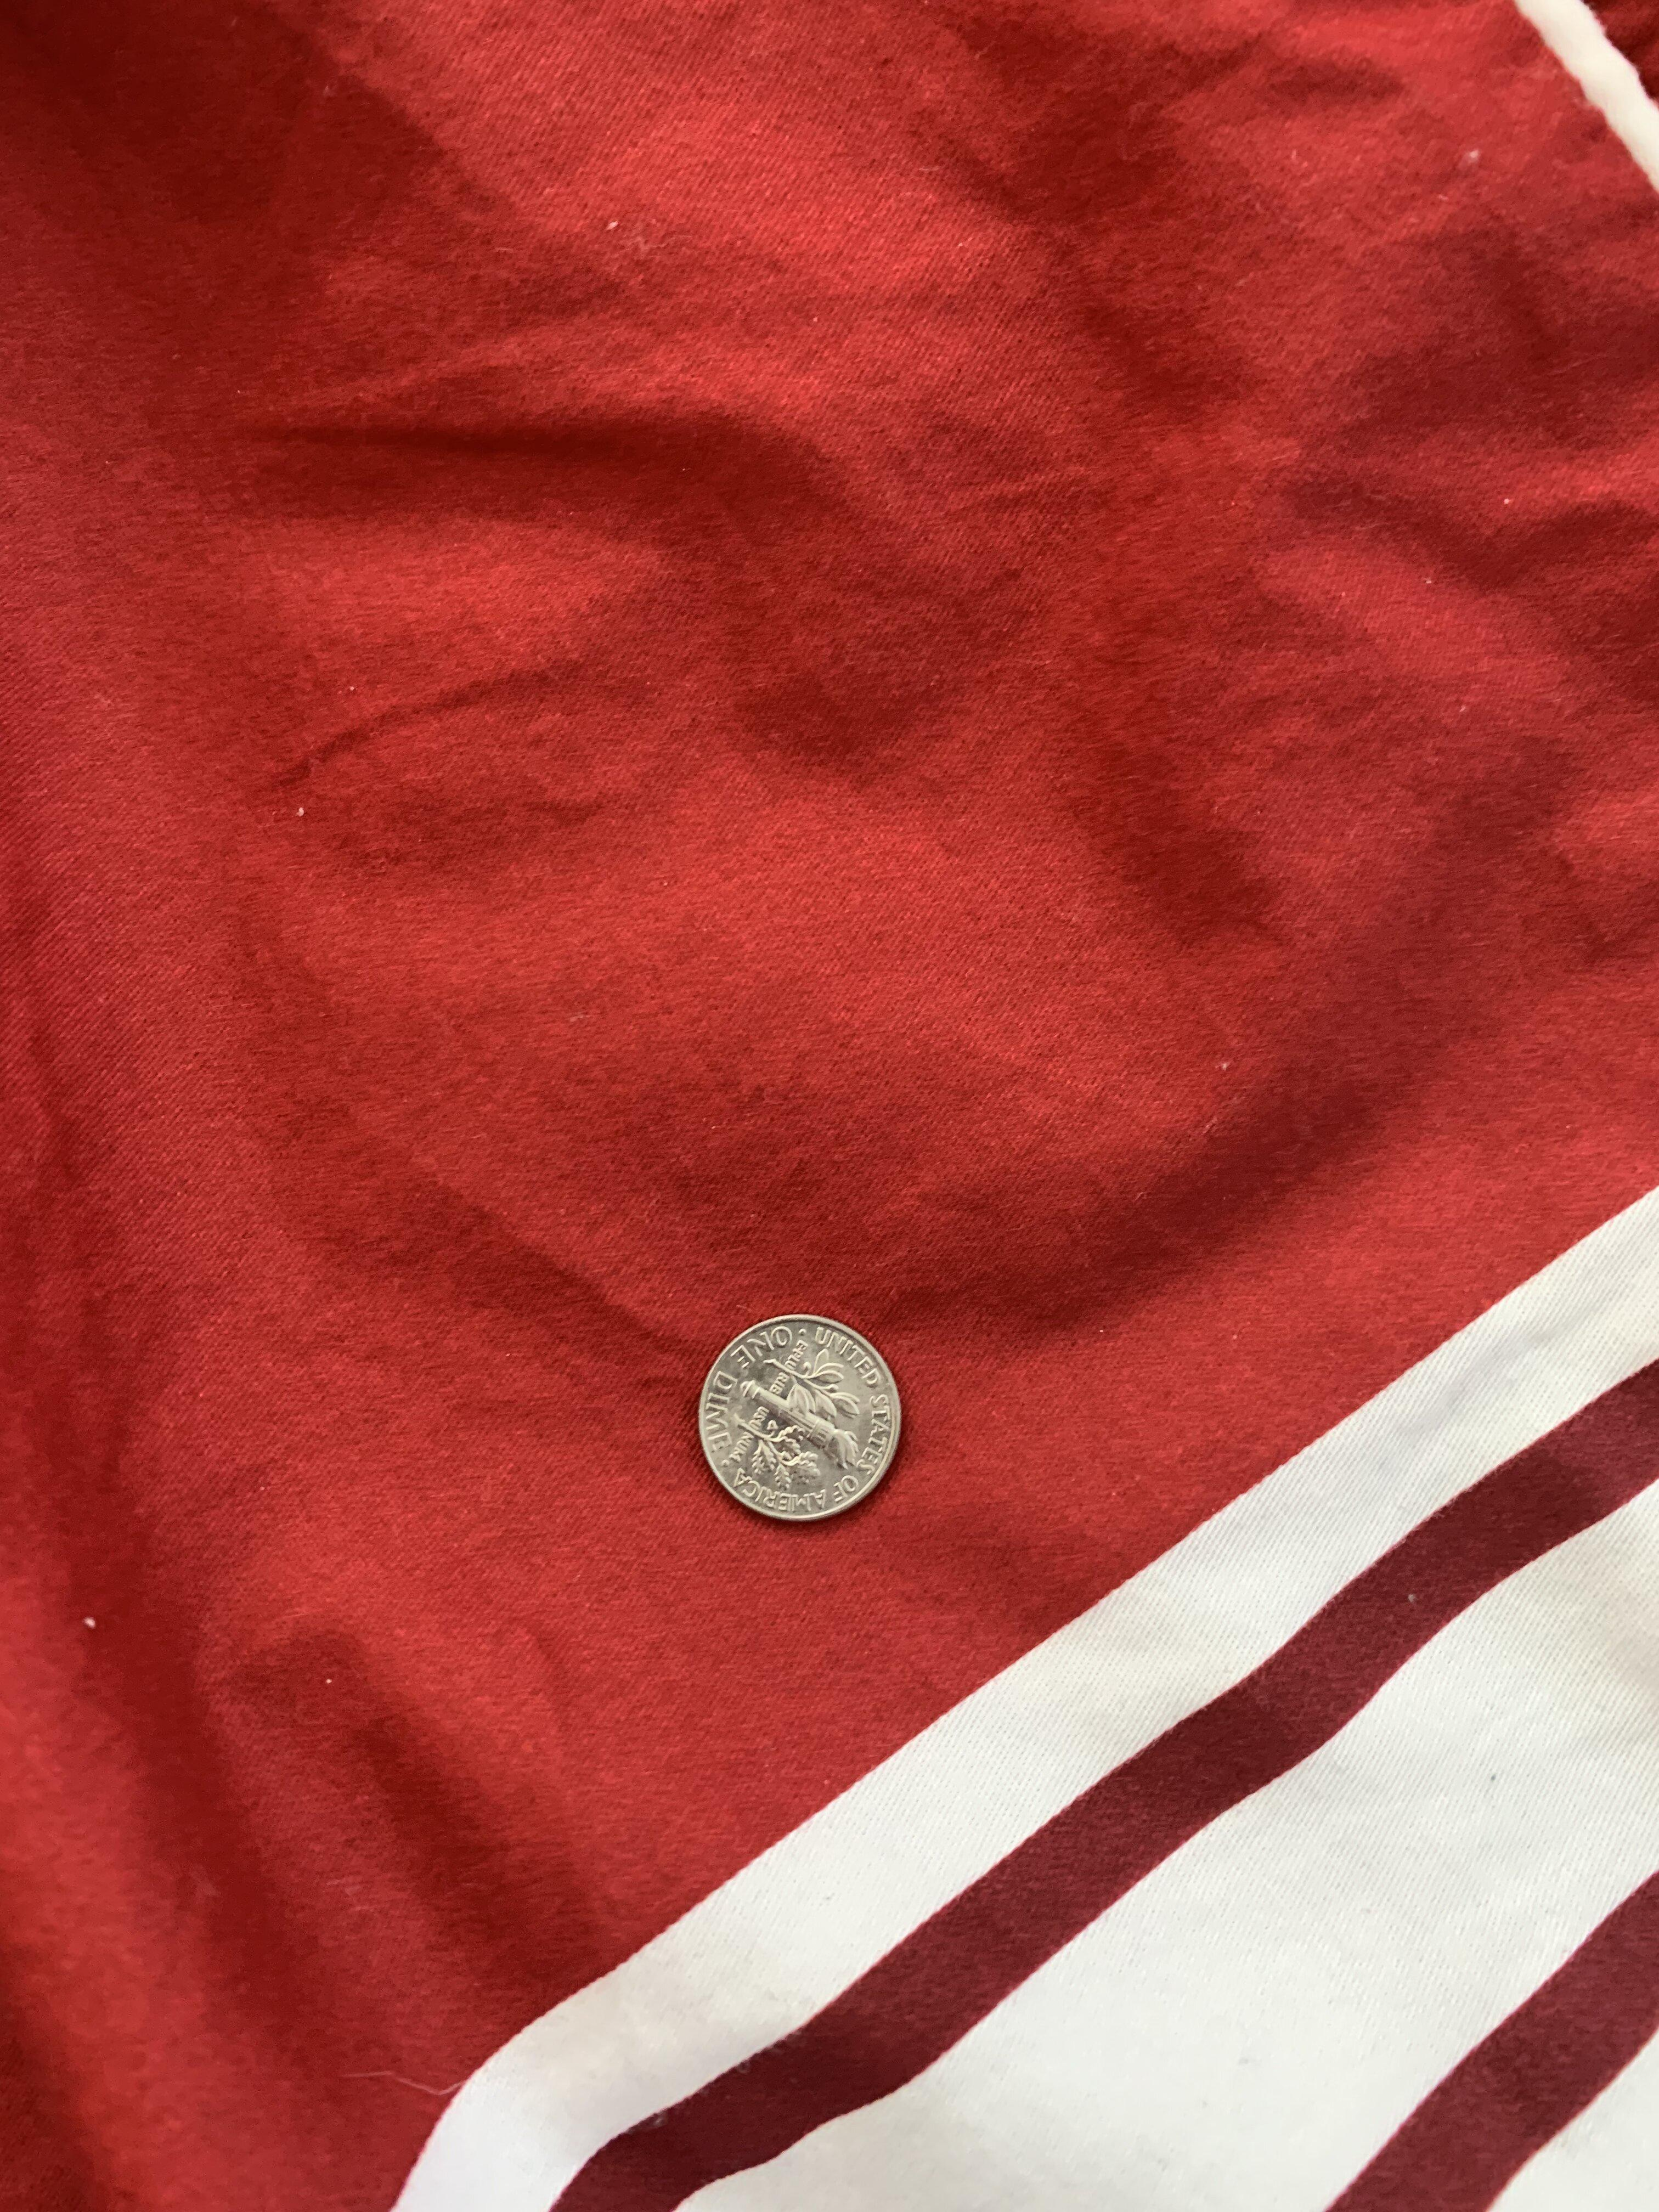Dime: (662, 1273, 948, 1592)
